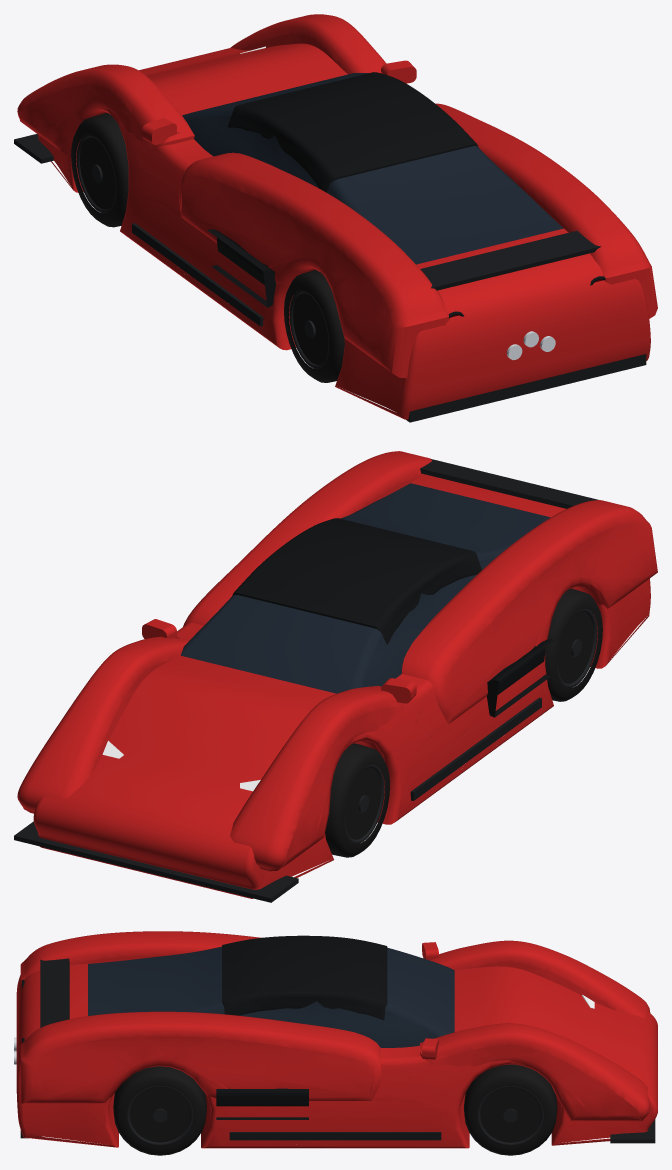
File: hyper.glb
3 renders of one model, top to bottom at view 1: azimuth 30°, elevation 25°; view 2: azimuth 150°, elevation 25°; view 3: azimuth 270°, elevation 25°, orthographic. The views are drawn at different scales.
Parts seen in each view (by area): view 1: Body, Glass, Trim, Carbon, Tire_FL, Tire_RL, Rim_RL, Rim_FL, Chrome; view 2: Body, Glass, Trim, Carbon, Tire_FL, Tire_RL, Rim_RL, Rim_FL; view 3: Body, Glass, Trim, Tire_FR, Tire_RR, Carbon, Rim_RR, Rim_FR.
Part boxes in pixels (x1,y1,x2,y2): Body: (17, 14, 657, 419); Glass: (182, 73, 563, 264); Trim: (177, 72, 605, 318); Carbon: (14, 134, 646, 422); Tire_FL: (71, 113, 128, 227); Tire_RL: (284, 269, 344, 382); Rim_RL: (289, 290, 329, 368); Rim_FL: (76, 134, 116, 213); Chrome: (506, 331, 555, 360); Body: (17, 451, 657, 898); Glass: (180, 483, 550, 693); Trim: (177, 518, 554, 717); Carbon: (14, 459, 598, 902); Tire_FL: (325, 743, 389, 857); Tire_RL: (545, 588, 602, 701); Rim_RL: (557, 609, 597, 687); Rim_FL: (344, 764, 384, 843); Body: (16, 931, 657, 1148); Glass: (88, 946, 454, 1047); Trim: (22, 935, 387, 1119); Tire_FR: (463, 1064, 557, 1155); Tire_RR: (113, 1066, 206, 1155); Carbon: (20, 958, 655, 1143); Rim_RR: (127, 1086, 193, 1146); Rim_FR: (477, 1086, 543, 1146).
Size of the model in its own units: 2.1 by 1.18 by 4.87.
